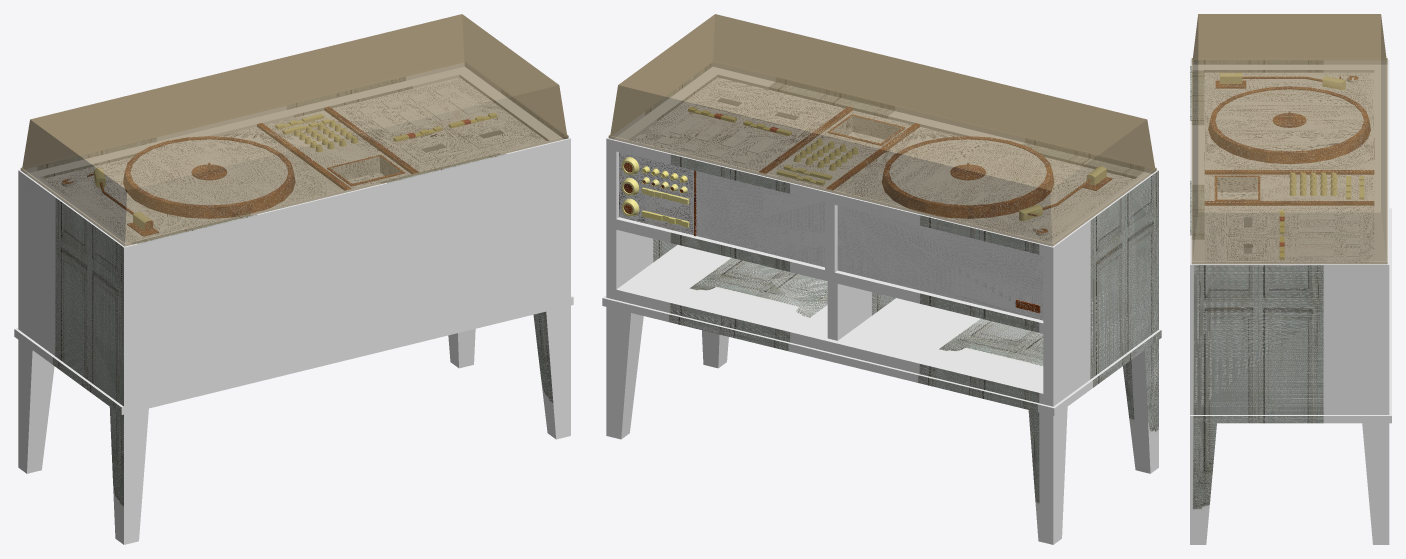
3 renders of one model, left to right at view 1: azimuth 30°, elevation 25°; view 2: azimuth 150°, elevation 25°; view 3: azimuth 270°, elevation 25°, orthographic. The views are drawn at different scales.
Visible parts, largest first — view 1: mesh106_mesh106-geometry, mesh1_mesh1-geometry; view 2: mesh106_mesh106-geometry, mesh1_mesh1-geometry, mesh107_mesh107-geometry; view 3: mesh106_mesh106-geometry, mesh1_mesh1-geometry, mesh107_mesh107-geometry.
Boxes of the visible parts, bbox=[...] form: mesh106_mesh106-geometry: bbox=[14, 62, 573, 544]; mesh1_mesh1-geometry: bbox=[20, 14, 568, 246]; mesh106_mesh106-geometry: bbox=[602, 62, 1161, 544]; mesh1_mesh1-geometry: bbox=[608, 14, 1156, 246]; mesh107_mesh107-geometry: bbox=[1019, 166, 1106, 220]; mesh106_mesh106-geometry: bbox=[1190, 59, 1391, 544]; mesh1_mesh1-geometry: bbox=[1191, 14, 1387, 264]; mesh107_mesh107-geometry: bbox=[1220, 73, 1345, 89].
Size of the model in its own units: 0.7638 by 0.5642 by 0.3137.
